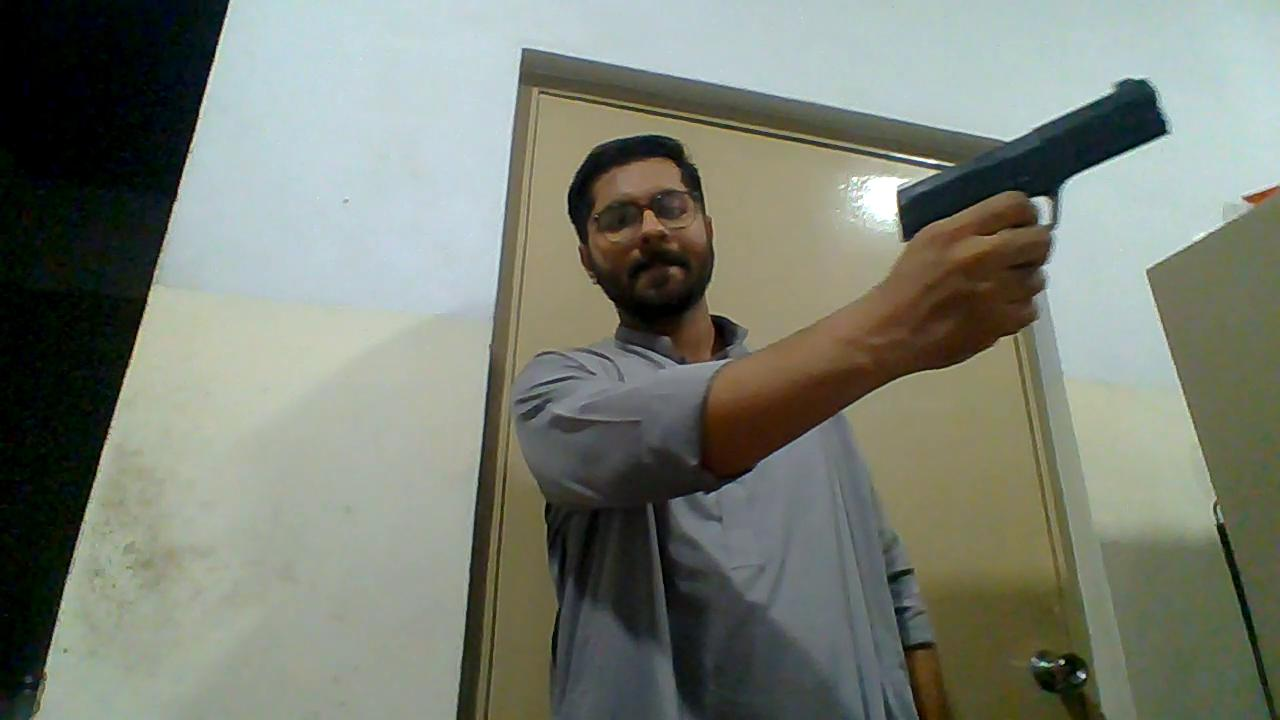criminal: (509, 73, 1173, 720)
weapon: (893, 74, 1173, 247)
